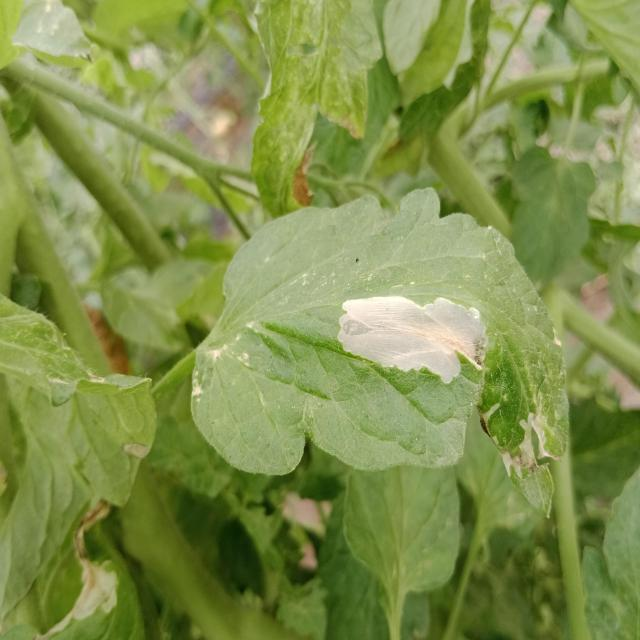Tuta absoluta: (330, 273, 496, 391), (488, 410, 561, 483)
